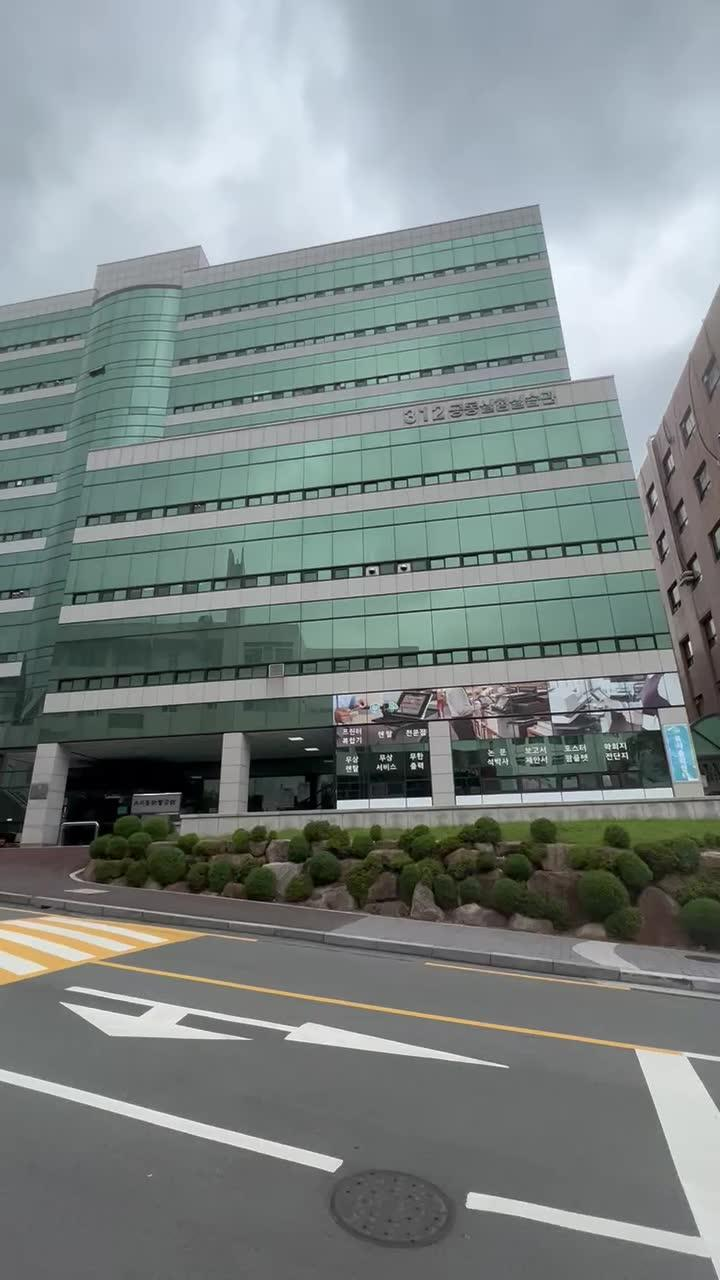building: (20, 218, 674, 652)
